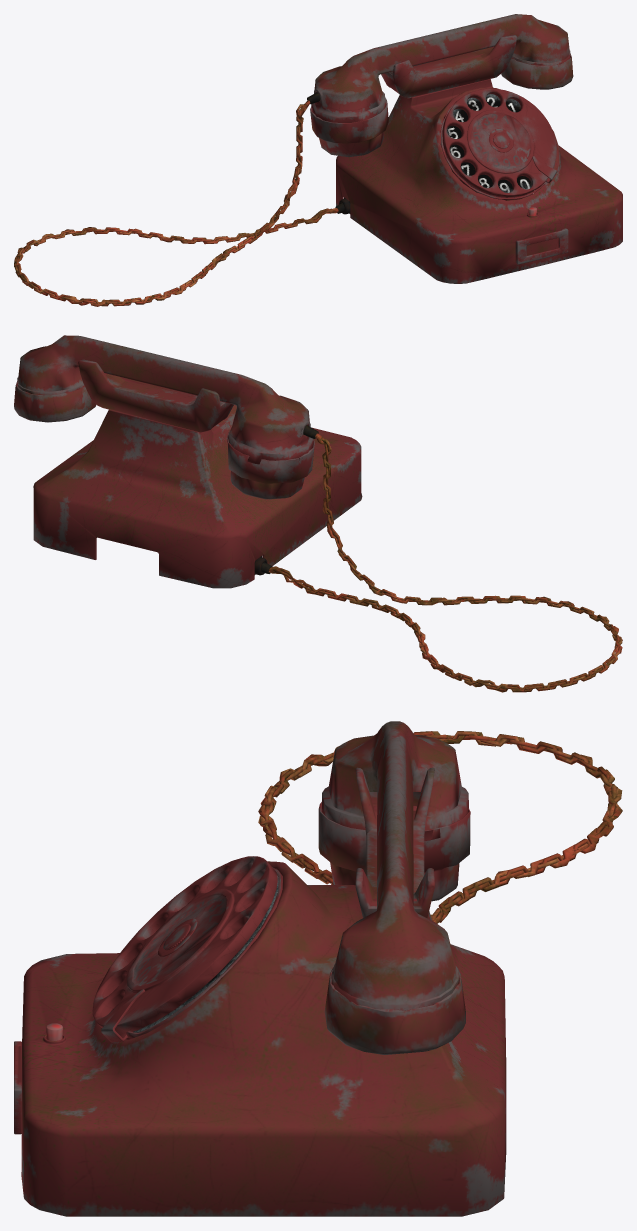
Rendered from Phone20k.fbx.
The picture shows the model from 3 angles, top to bottom: view 1: azimuth 30°, elevation 25°; view 2: azimuth 150°, elevation 25°; view 3: azimuth 270°, elevation 25°; orthographic projection. The views are drawn at different scales.
Parts seen in each view (by area): view 1: Telephon.001, Recover.001, Disk.001, Cord.001, Holder.001, Cover.001; view 2: Telephon.001, Recover.001, Cord.001, Holder.001; view 3: Telephon.001, Recover.001, Disk.001, Cord.001, Holder.001, Cover.001.
Part boxes in pixels (left/top/right/bottom): Telephon.001: left=336, top=79, right=622, bottom=283; Recover.001: left=310, top=14, right=573, bottom=157; Disk.001: left=440, top=88, right=556, bottom=200; Cord.001: left=14, top=92, right=344, bottom=306; Holder.001: left=381, top=35, right=517, bottom=98; Cover.001: left=339, top=197, right=568, bottom=264; Telephon.001: left=33, top=405, right=362, bottom=588; Recover.001: left=14, top=335, right=314, bottom=499; Cord.001: left=261, top=425, right=622, bottom=692; Holder.001: left=78, top=359, right=233, bottom=432; Telephon.001: left=21, top=806, right=506, bottom=1216; Recover.001: left=318, top=721, right=470, bottom=1054; Disk.001: left=92, top=856, right=282, bottom=1042; Cord.001: left=258, top=731, right=622, bottom=923; Holder.001: left=355, top=767, right=434, bottom=917; Cover.001: left=14, top=1023, right=62, bottom=1134.
Bounding box in the file's own units: 27.11 × 8.23 × 13.75.
